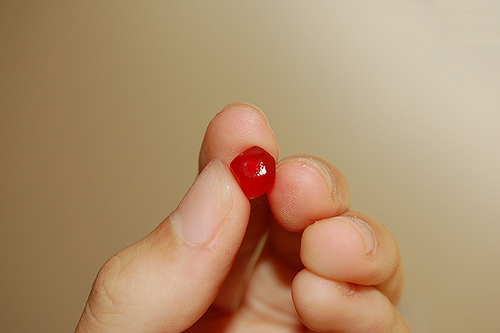pomogranate: (226, 143, 285, 198)
